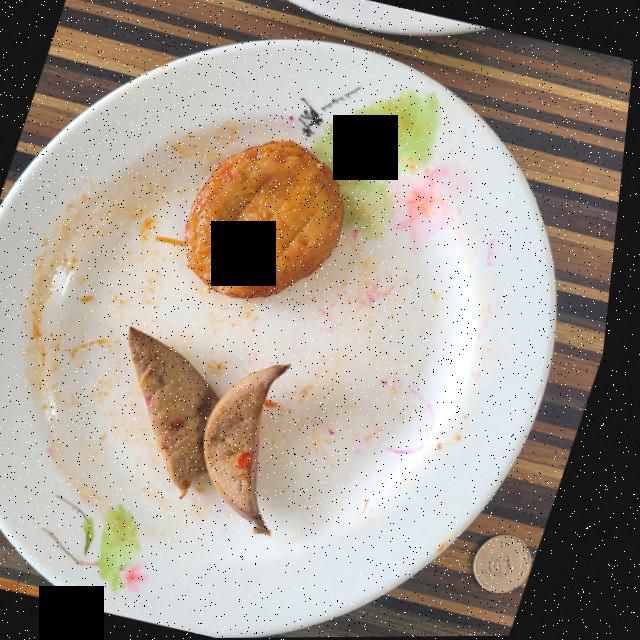coin: (485, 535, 544, 594)
fish cake: (189, 141, 349, 299)
pig liver: (135, 327, 297, 535)
